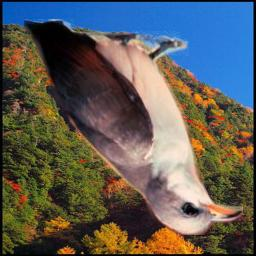Cuckoo: (24, 19, 243, 235)
